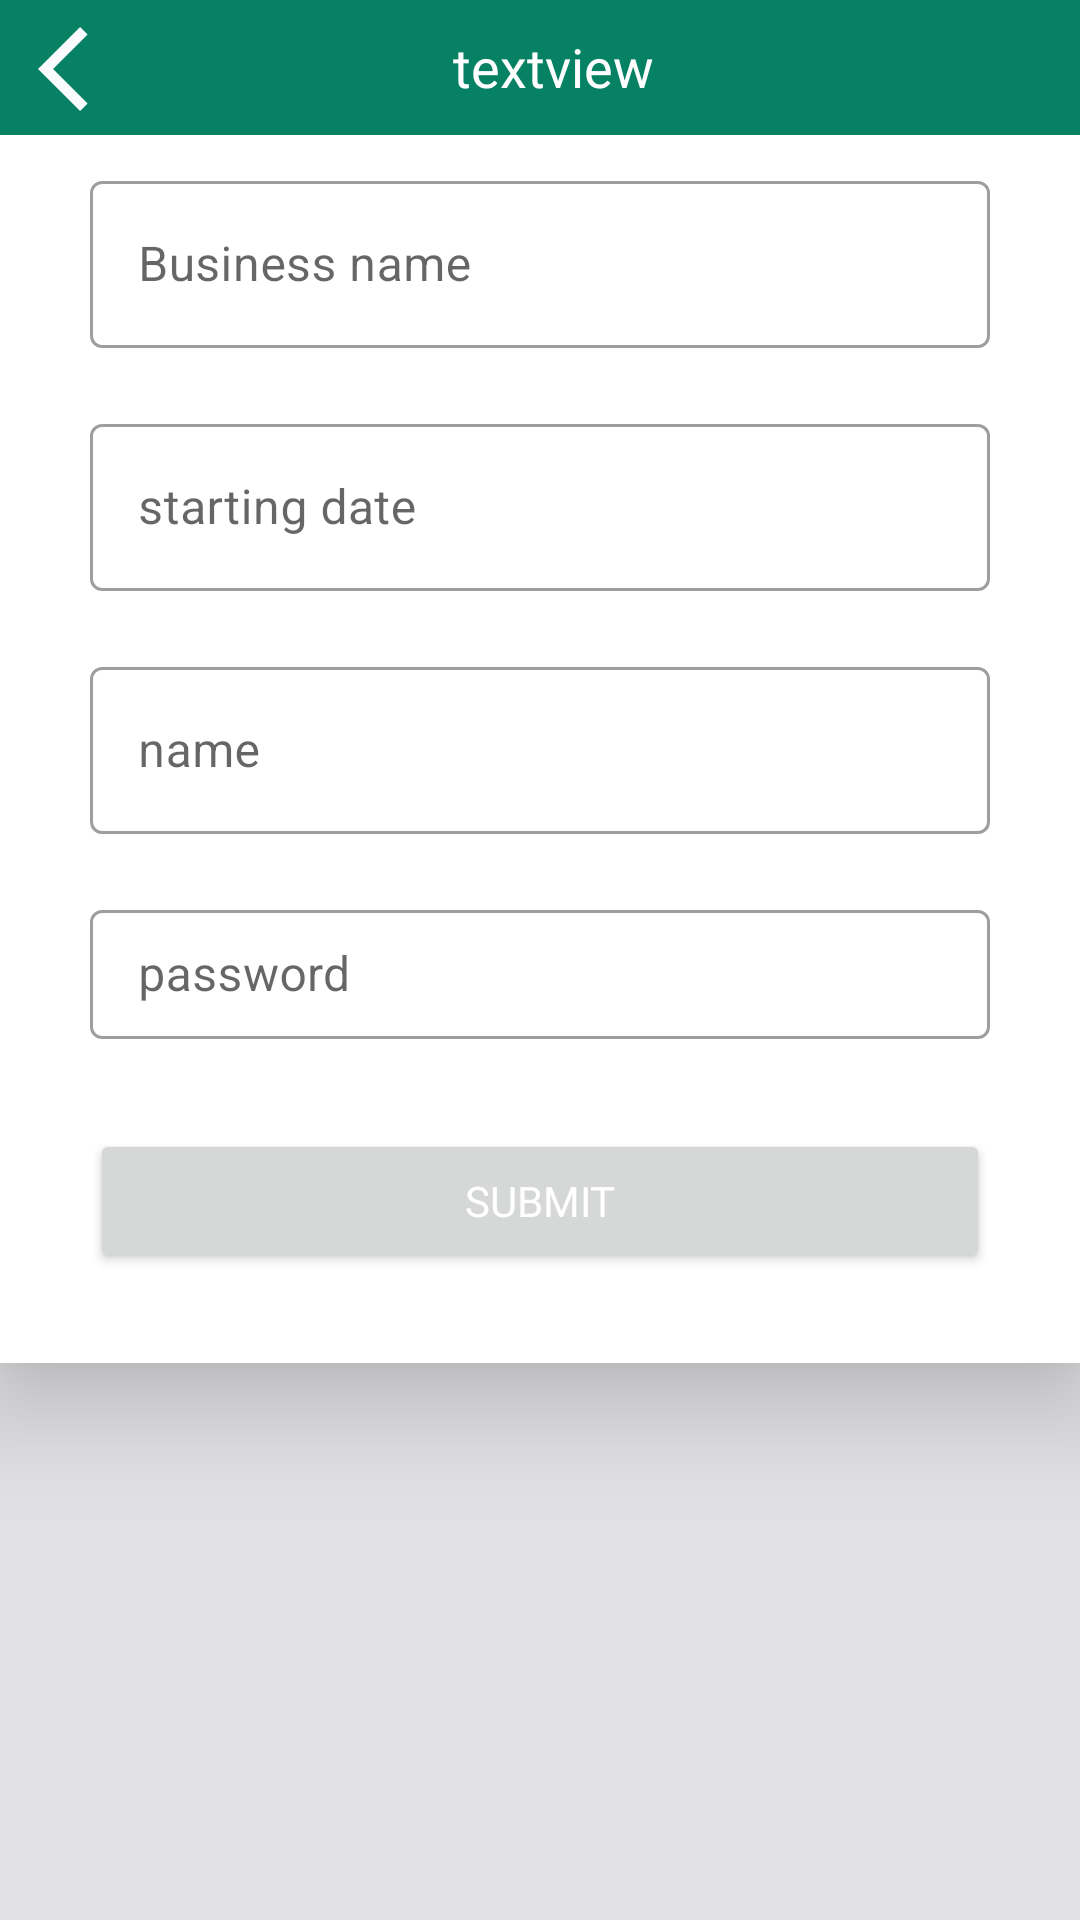

Screen size 1080px x 1920px. Icon name, then its center in pixels as point (x, y):
back: point (63, 69)
